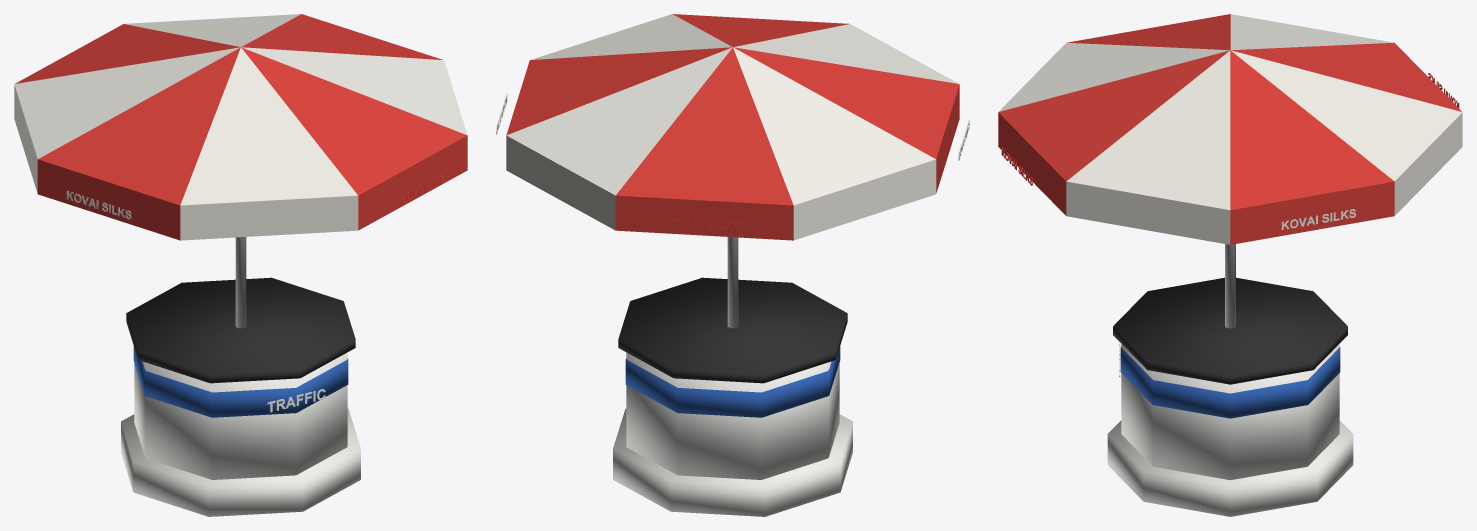
Rendered from police_booth.glb.
The picture shows the model from 3 angles, left to right: view 1: azimuth 30°, elevation 25°; view 2: azimuth 150°, elevation 25°; view 3: azimuth 270°, elevation 25°; orthographic projection.
Parts seen in each view (by area): view 1: Police booth; view 2: Police booth; view 3: Police booth.
Boxes of the visible parts, left/top/right/bottom form: Police booth: left=14, top=14, right=467, bottom=516; Police booth: left=496, top=14, right=969, bottom=516; Police booth: left=998, top=14, right=1462, bottom=516.
Bounding box in the file's own units: 3.4 × 3.35 × 3.4.
